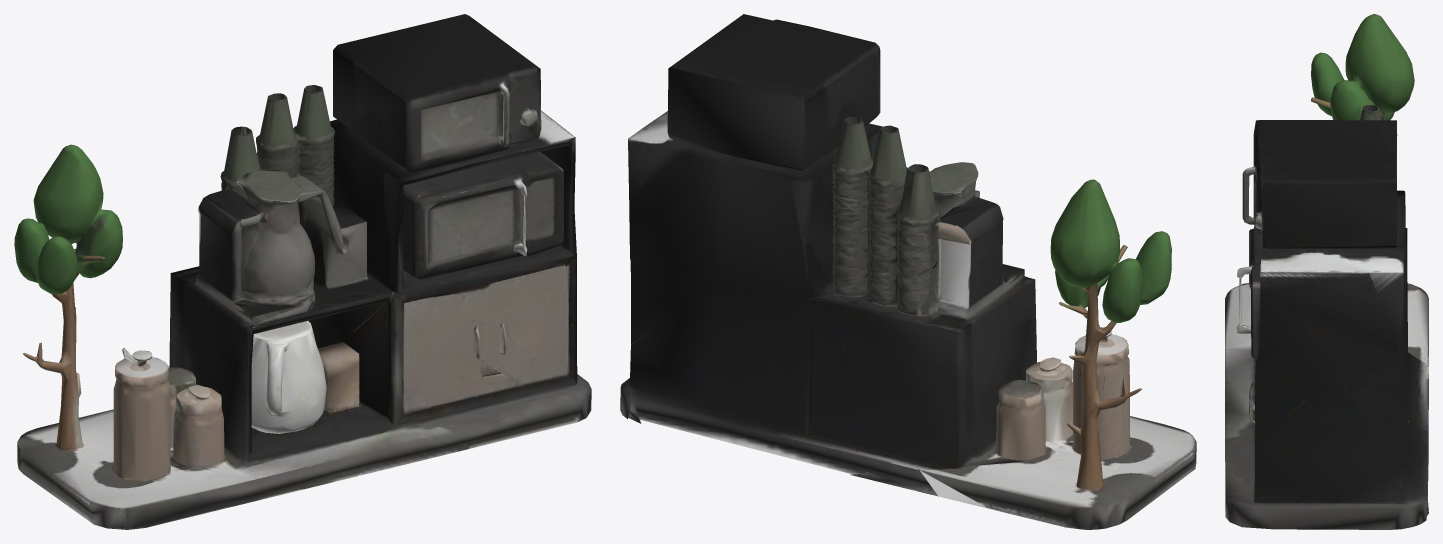
The model's file is segCafe.glb.
3 renders of one model, left to right at view 1: azimuth 30°, elevation 25°; view 2: azimuth 150°, elevation 25°; view 3: azimuth 270°, elevation 25°, orthographic. The views are drawn at different scales.
Bounding box in the file's own units: 1.9 × 1.24 × 0.6954.
Materials: 1 (1 with a texture image).
